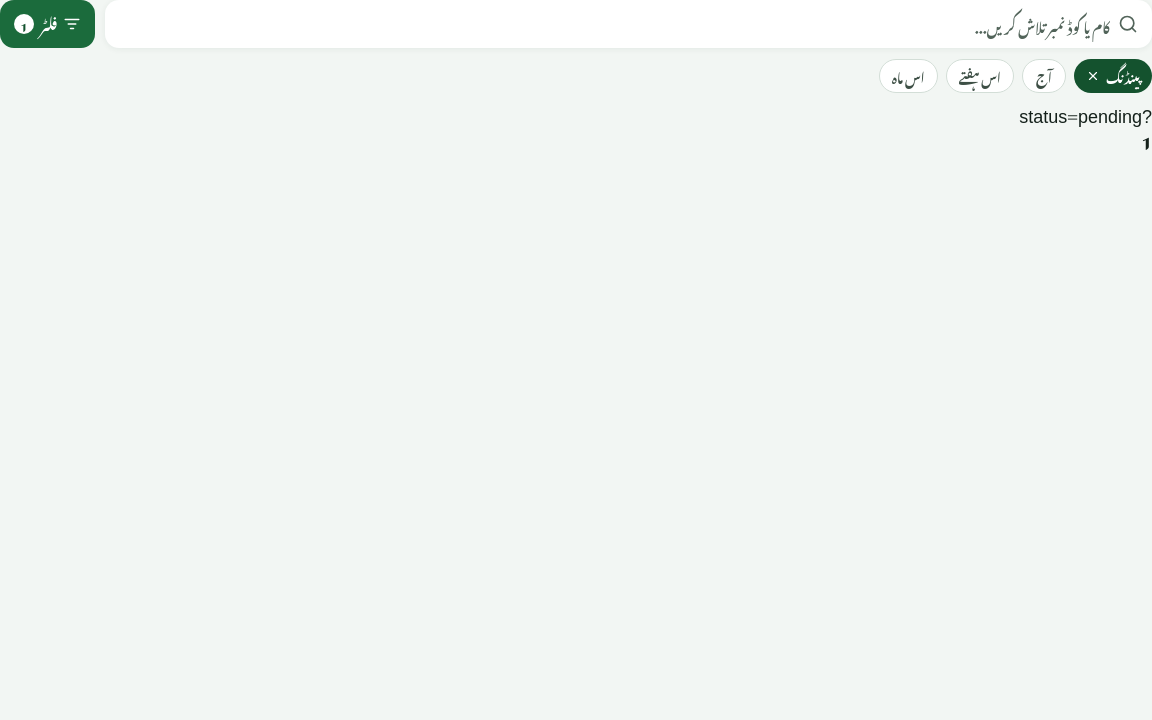
Test: MobileFilterBar — search, the "فلٹر" button and the chip row › the "فلٹر" button › opens the filter sheet, showing the filters in force
Click the button "فلٹر 1": (48, 24) top-left (0, 0), bottom-right (95, 48)
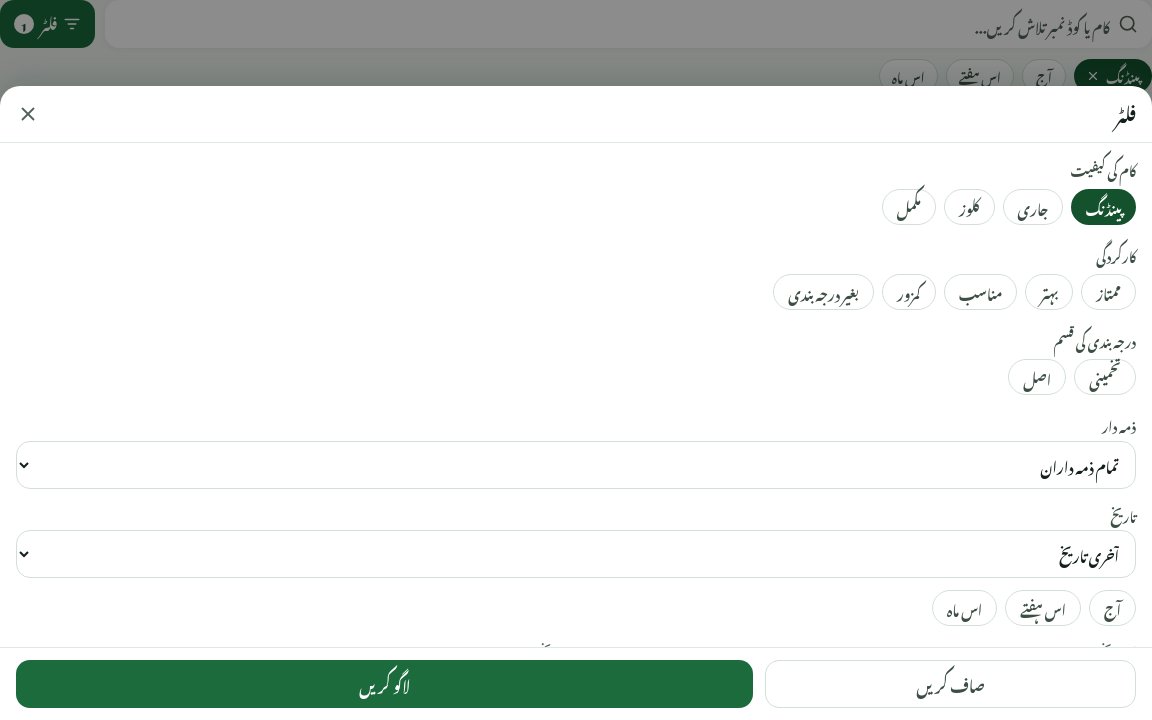
expect the button "فلٹر 1" is expanded: met, box top-left (0, 0), bottom-right (95, 48)
